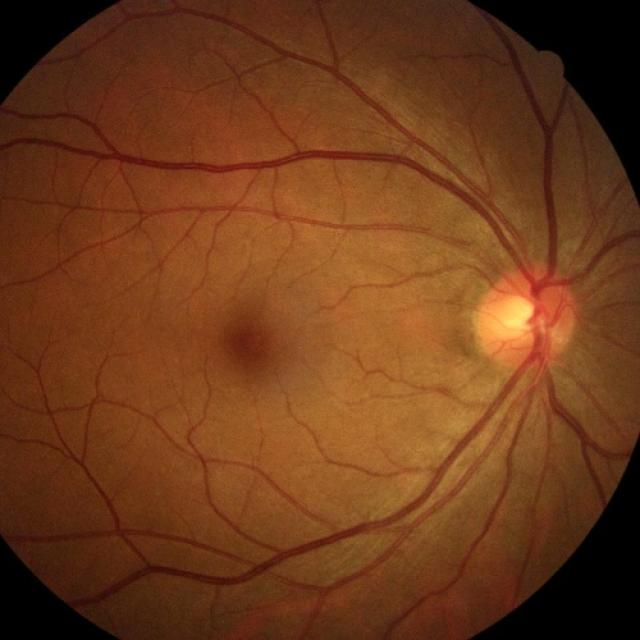OC: (500, 298, 534, 330)
OD: (475, 270, 576, 372)
